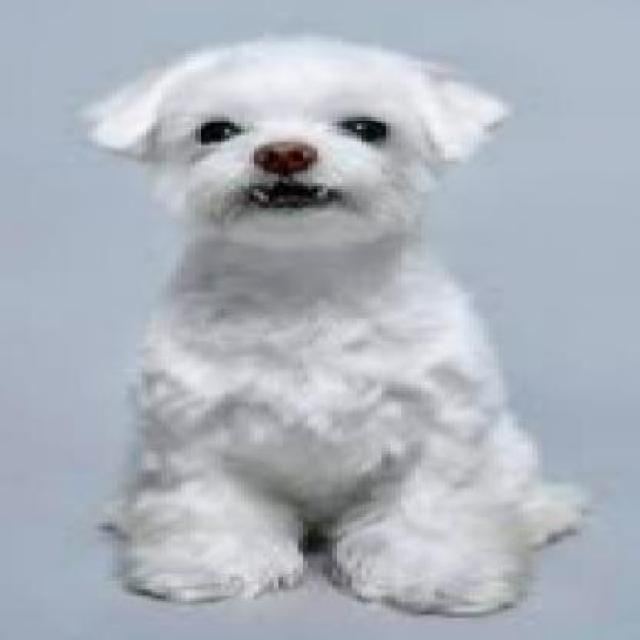Dog: (77, 34, 598, 620)
